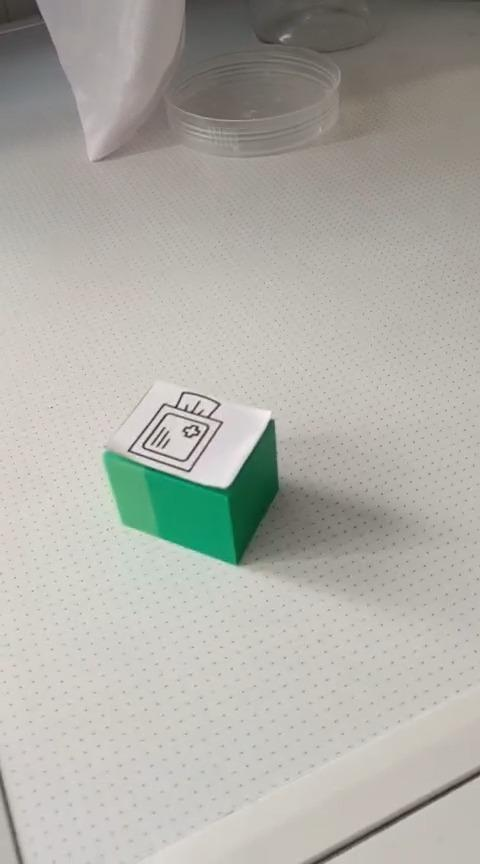Gauze: (100, 379, 280, 566)
